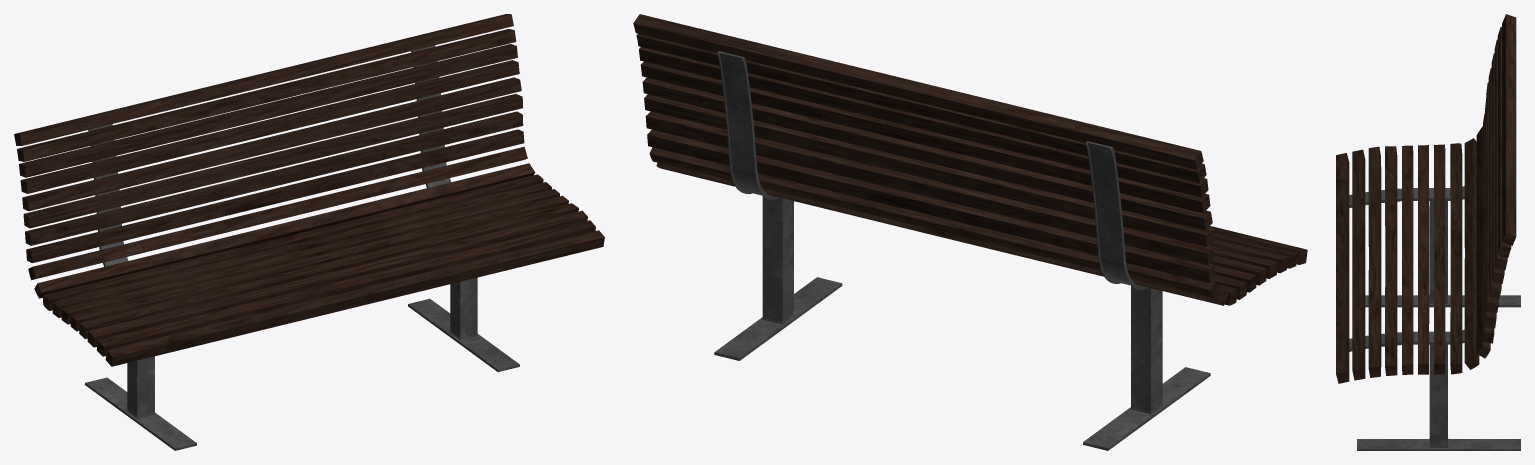
The model's file is bench.glb.
3 views of the same model, side by side, from view 1: azimuth 30°, elevation 25°; view 2: azimuth 150°, elevation 25°; view 3: azimuth 270°, elevation 25° (orthographic). The views are drawn at different scales.
Parts seen in each view (by area): view 1: wood, frame; view 2: wood, frame; view 3: wood, frame.
Boxes of the visible parts, box(x1,y1,x2,y2) form: wood: box(14, 14, 604, 366); frame: box(85, 45, 519, 450); wood: box(633, 14, 1307, 305); frame: box(714, 51, 1210, 450); wood: box(1336, 14, 1516, 383); frame: box(1349, 186, 1520, 450).
Bounding box in the file's own units: 1.55 × 0.82 × 0.5483.
2 materials, 2 textured.
